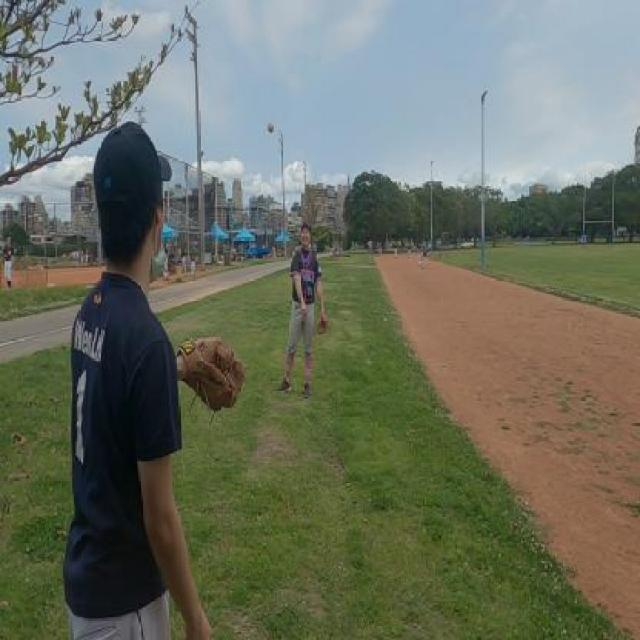baseball: (267, 121, 275, 133)
